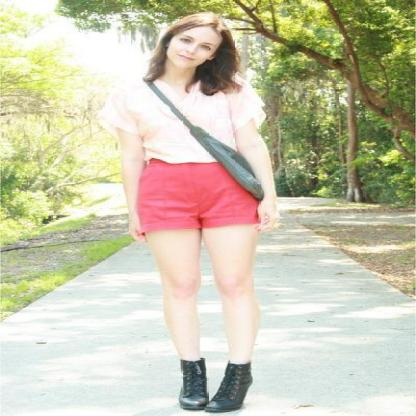bag: (171, 108, 202, 135)
shirt: (116, 68, 266, 163)
shoe: (179, 358, 252, 413)
shorts: (136, 158, 259, 237)
